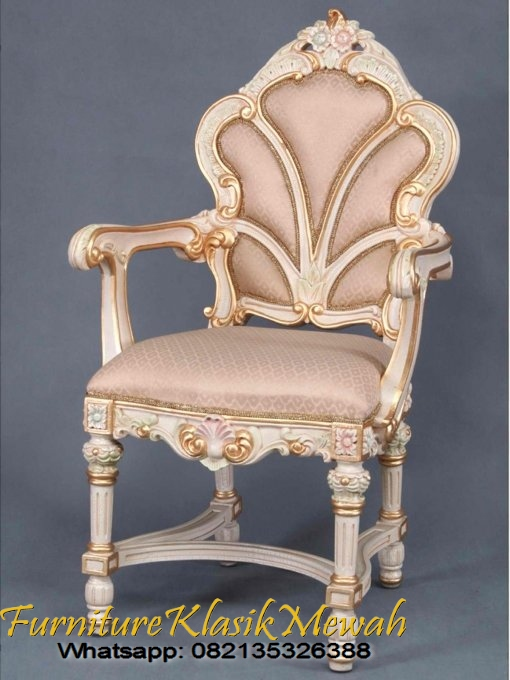Carving Chair: (64, 37, 450, 651)
